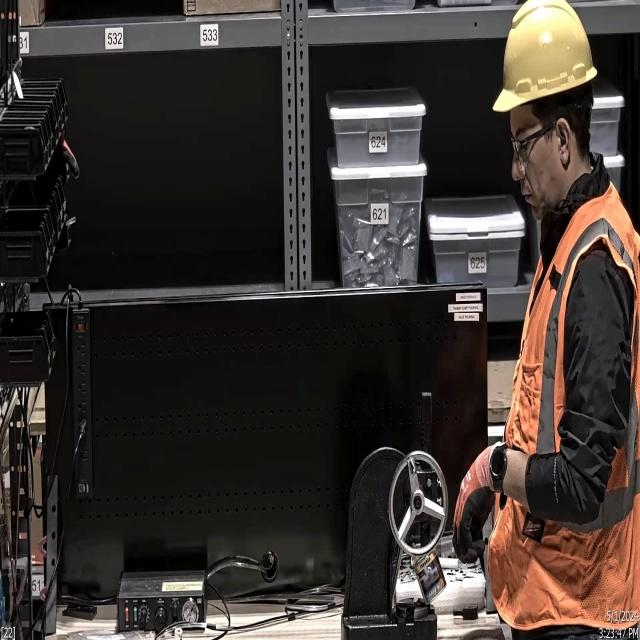gloves: (453, 439, 492, 568)
